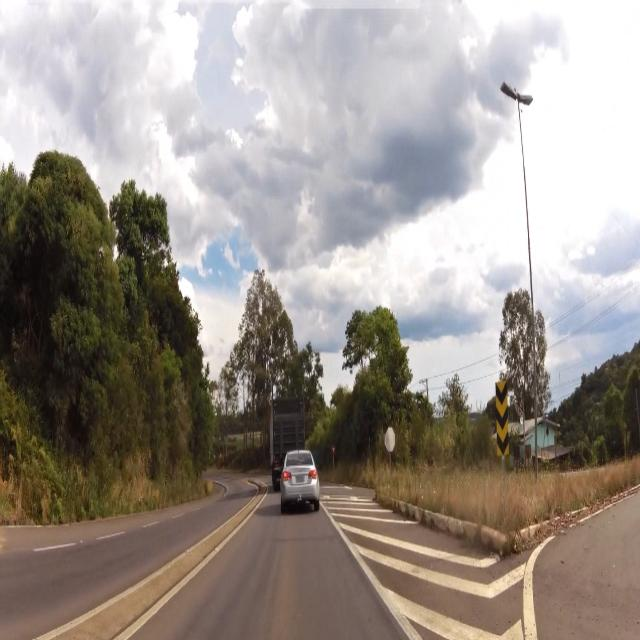MP: (494, 377, 511, 453)
